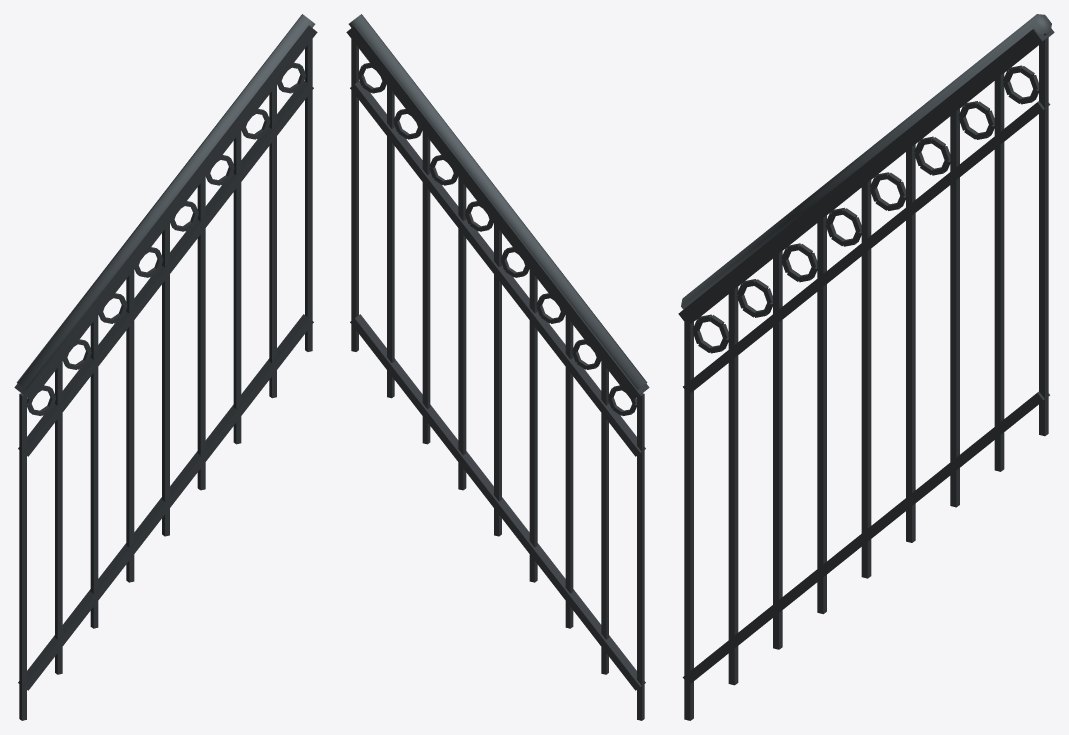
The picture shows the model from 3 angles, left to right: view 1: azimuth 30°, elevation 25°; view 2: azimuth 150°, elevation 25°; view 3: azimuth 330°, elevation 25°; orthographic projection. The views are drawn at different scales.
Visible parts, largest first — view 1: house_paint; view 2: house_paint; view 3: house_paint.
Part boxes in pixels (x1,y1,x2,y2): house_paint: (14,14,317,720); house_paint: (346,14,649,720); house_paint: (678,14,1054,720).
Bounding box in the file's own units: 0.9554 × 1.96 × 0.055.
1 material, 1 textured.
